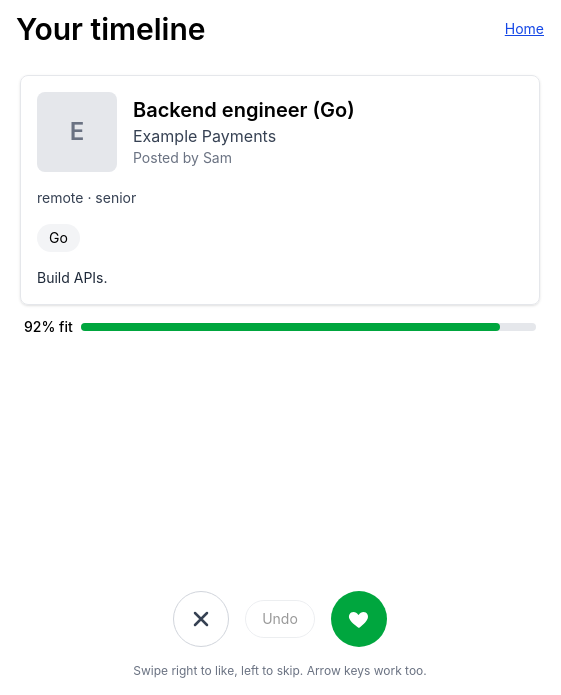
Test case: TimelinePage › sends the time on the card, and puts a refused like back
Expected: the text "92% fit" is shown, [24,317,73,337]
Click the button named "Like": point(359, 619) [331,591,387,647]
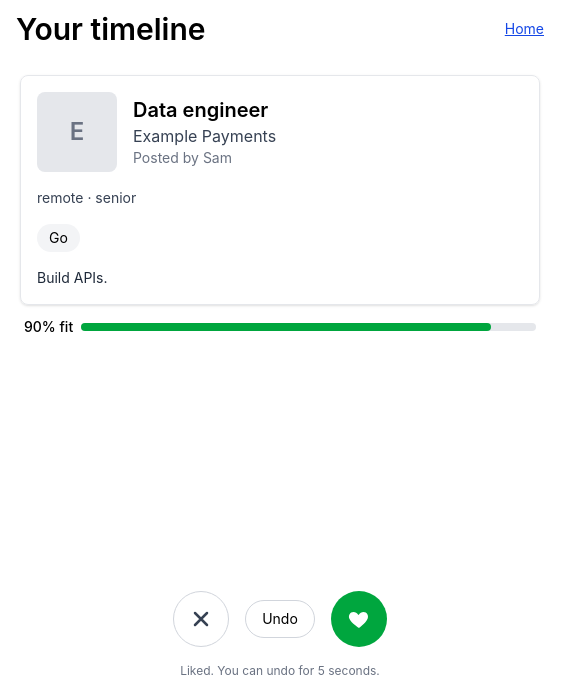
Now the element with test id "swipe-card" shows "Data engineer", box [133,98,268,122]
Click the button named "Skip": point(201, 619) [173,591,229,647]
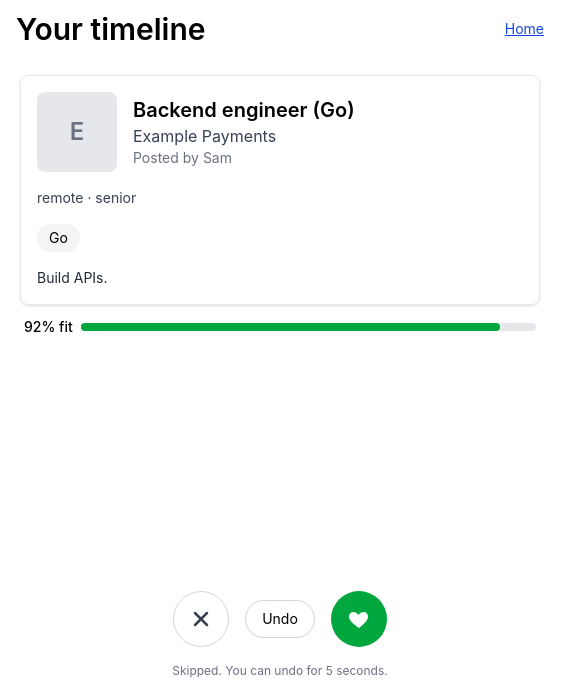
Now the element with test id "swipe-card" shows "Backend engineer", box [133,98,355,122]
